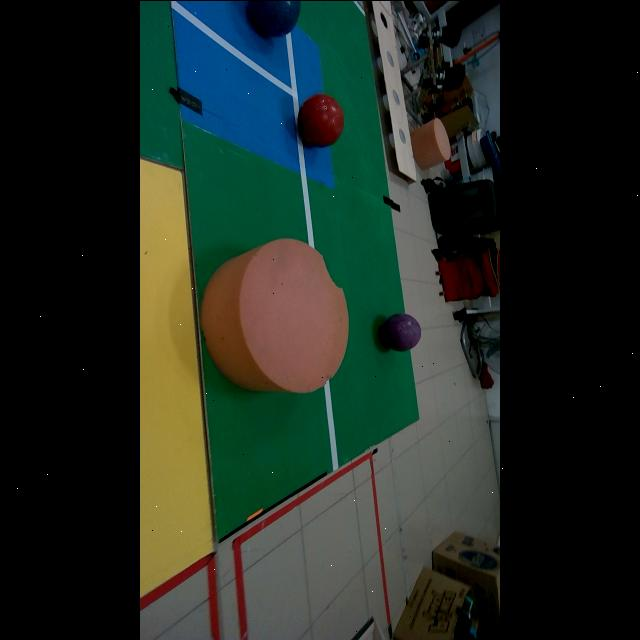B: (248, 0, 300, 36)
P: (381, 312, 421, 350)
R: (298, 92, 344, 146)
